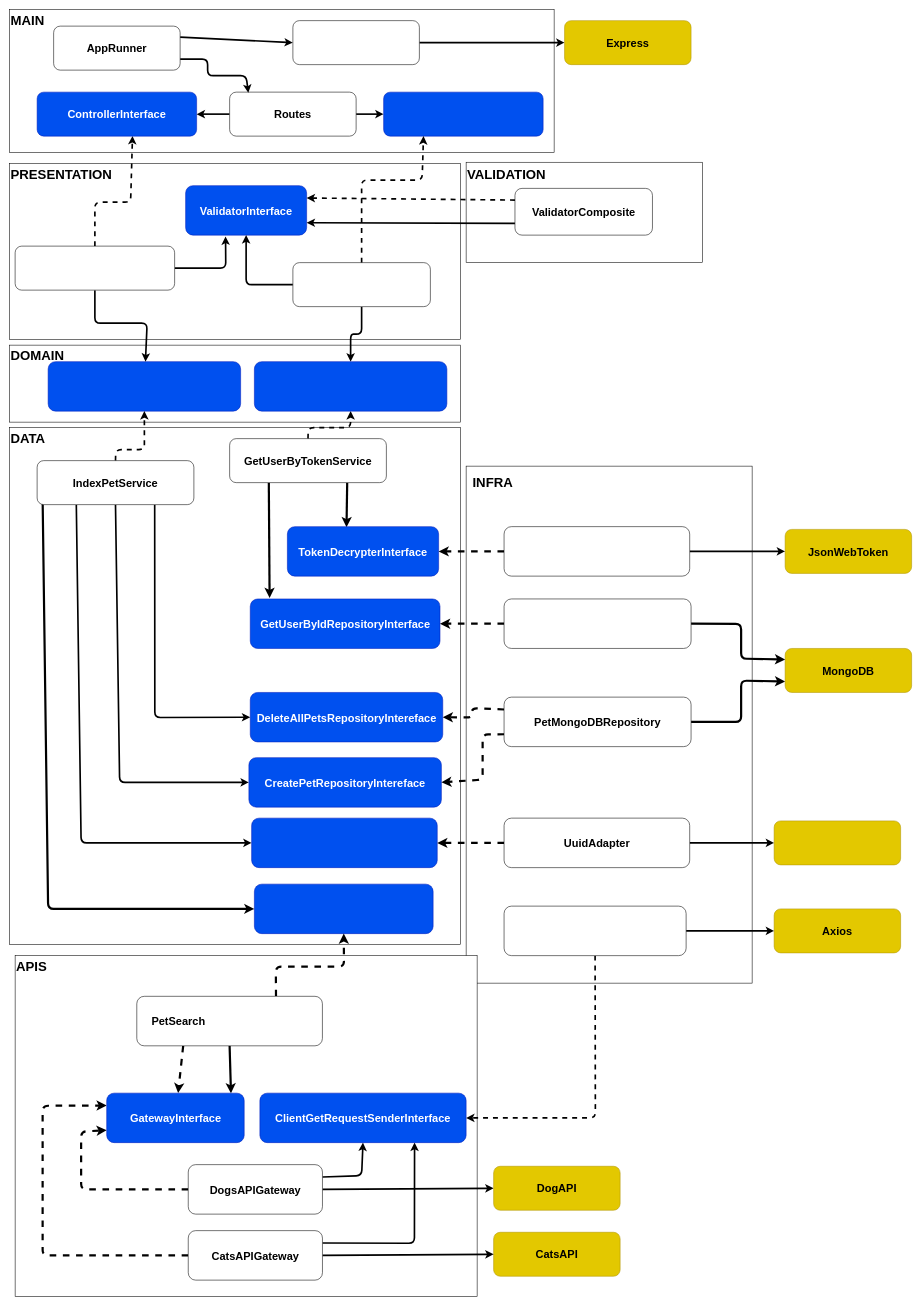
Some shapes in this 921 by 1306 pixel diagram are drawn without their labels. The shapes that lost their labels are listed below. From the top down, each one's box as (x1, y1, x2, y2) in pixels, then its label:
(292, 20, 419, 65): ExpressAdapter
(383, 92, 543, 136): MiddlewareInterface
(15, 246, 175, 290): IndexPetController
(292, 262, 430, 307): UserAuthMiddleware
(48, 361, 241, 411): IndexPet UseCaseInterface
(254, 361, 447, 411): GetUserByToken UseCaseInterface
(504, 526, 690, 576): JwtAdapter
(504, 598, 691, 648): UserMongoDBRepository
(251, 818, 437, 868): IdGeneratorInterface
(774, 820, 901, 865): Uuid
(254, 884, 433, 934): PetSearcherInterface
(504, 906, 686, 956): AxiosAdapter
